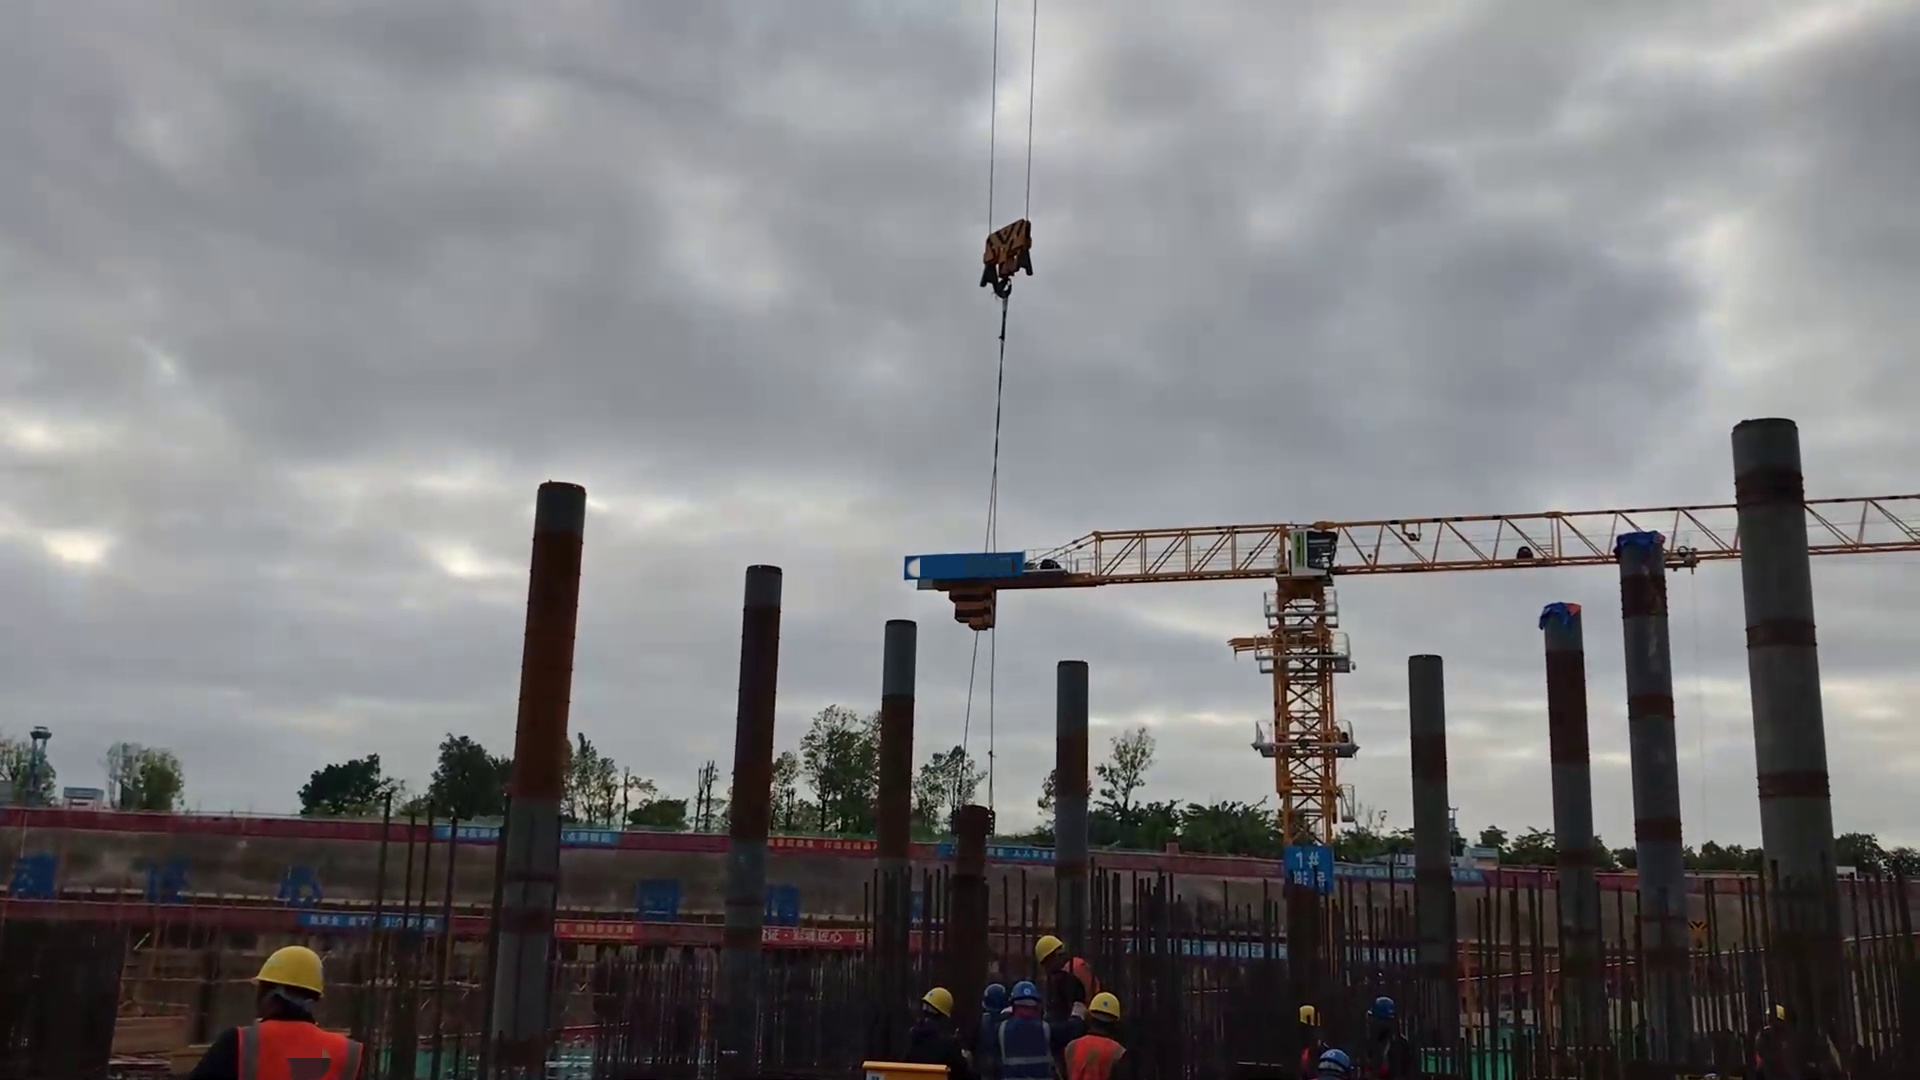ebox: (866, 1067, 920, 1080)
helmet: (244, 937, 338, 1002), (1079, 997, 1119, 1025), (924, 986, 958, 1016), (1039, 941, 1068, 969), (1318, 1048, 1353, 1069), (1369, 1002, 1399, 1020), (1765, 999, 1790, 1019), (981, 989, 1011, 1005), (1301, 1011, 1322, 1032), (1013, 988, 1038, 1005)
hook: (984, 224, 1031, 291)
person: (189, 950, 366, 1080), (1063, 993, 1136, 1078), (1030, 931, 1107, 1008), (1000, 981, 1056, 1075), (905, 984, 965, 1071), (1357, 995, 1413, 1076), (982, 983, 1019, 1066), (1746, 998, 1792, 1063), (1300, 1035, 1355, 1080), (1285, 1004, 1326, 1046)
vest: (228, 1026, 350, 1080), (1364, 1037, 1416, 1077), (1074, 1032, 1116, 1080), (1057, 953, 1101, 998), (1002, 1019, 1042, 1066), (1749, 1026, 1776, 1067), (919, 1019, 947, 1056), (983, 1013, 1002, 1062), (1303, 1042, 1321, 1067)
